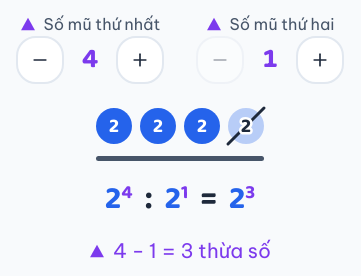
Test: exponent builders › keeps the divisor's exponent within the dividend's
Click the button named "Giảm số mũ thứ nhất". click: (40, 60)
box: 16,36 -> 64,84
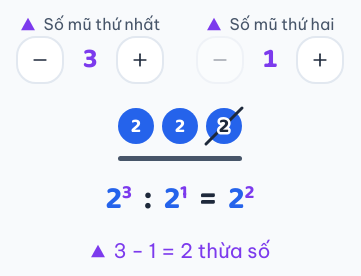
Click the button named "Giảm số mũ thứ nhất". click: (40, 60)
box: 16,36 -> 64,84
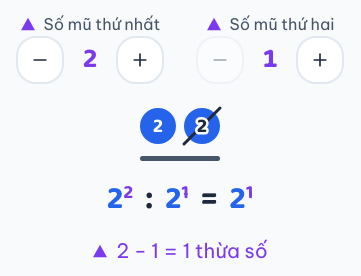
Click the button named "Giảm số mũ thứ nhất". click: (40, 60)
box: 16,36 -> 64,84
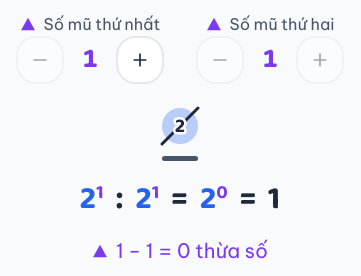
Now the button named "Tăng số mũ thứ hai" is disabled, box 296,36 -> 344,84
